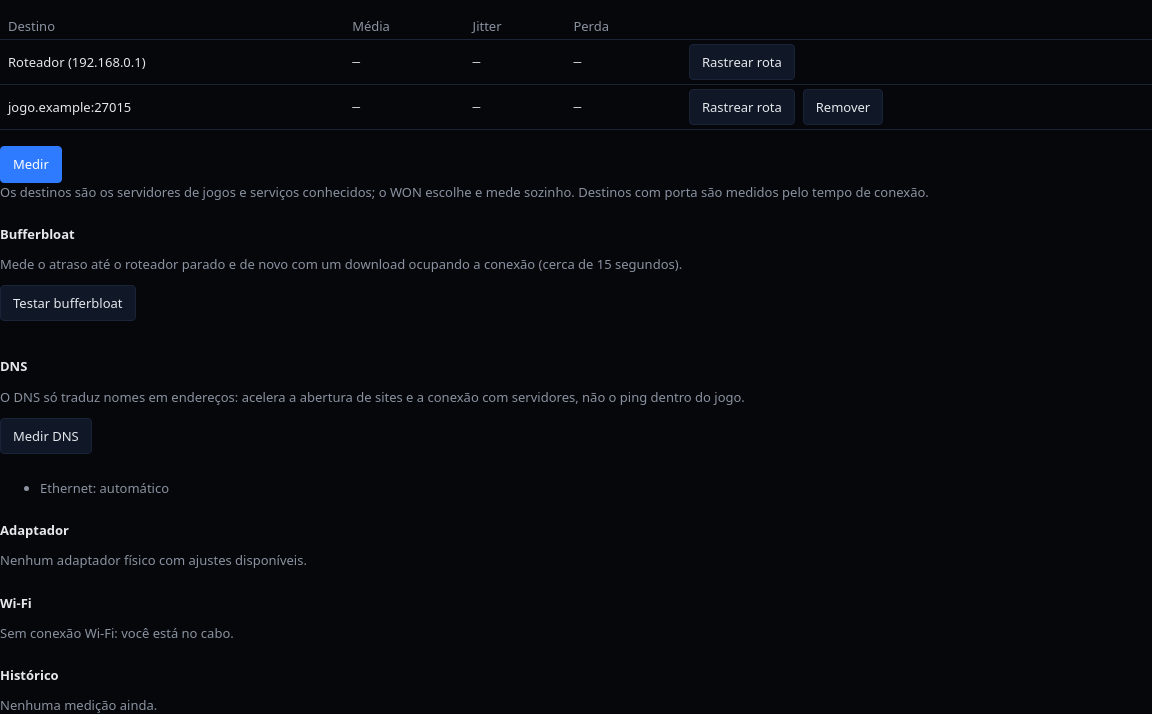
Test: Rede › dns_apply_asks_confirmation_with_preview
(page scrolled)
Expected: the text "não o ping dentro do jogo" is shown, x1=0 y1=388 x2=745 y2=406
Click the button "Medir DNS".
click(46, 436)  # box x1=0 y1=418 x2=92 y2=454
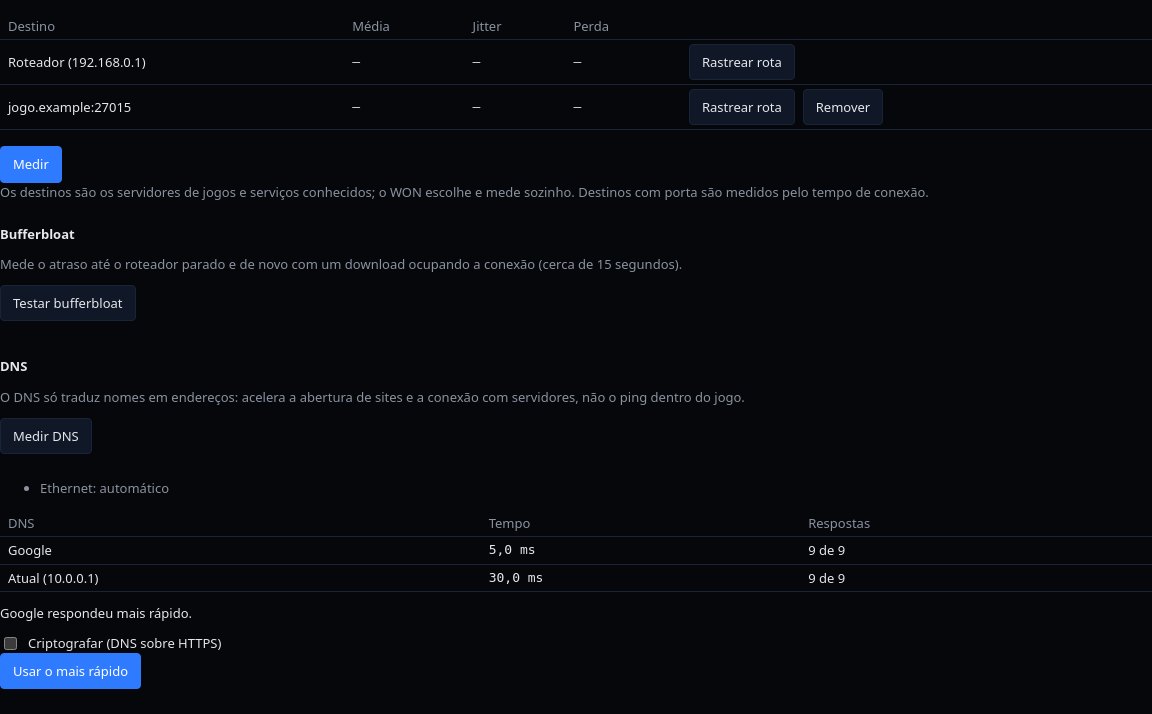
Click the button "Usar o mais rápido".
click(70, 671)  # box x1=0 y1=653 x2=141 y2=689
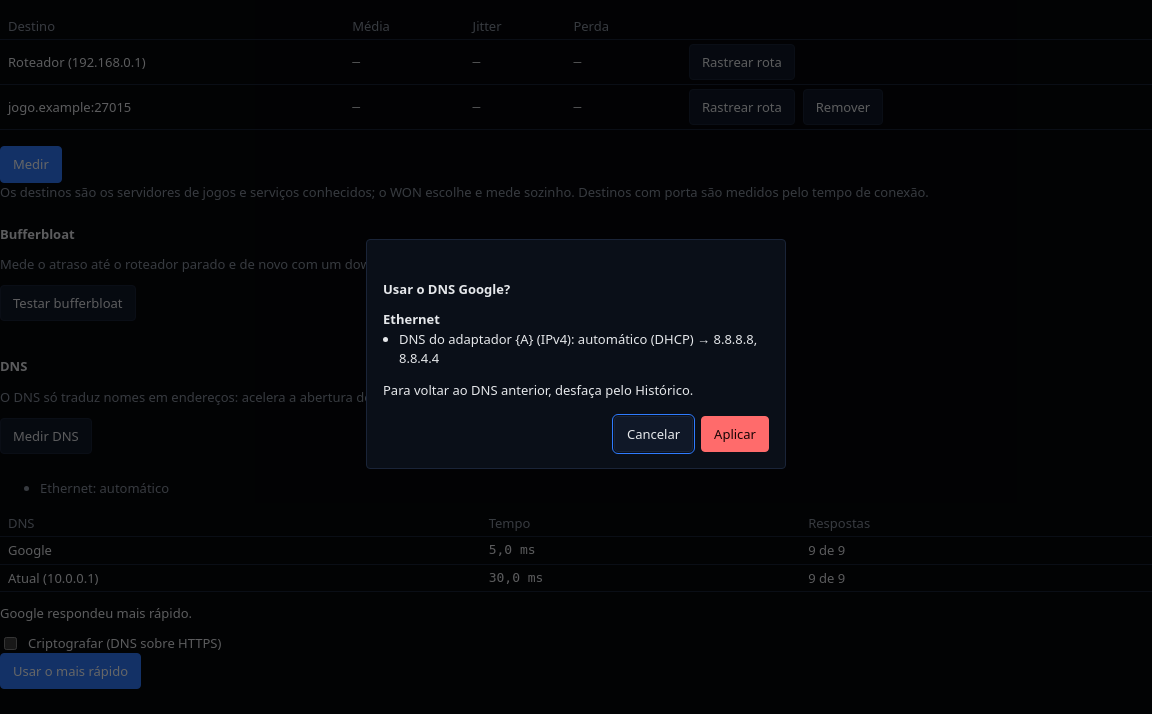
Expected: the list item "DNS do adaptador {A} (IPv4): automático (DHCP) → 8.8.8.8, 8.8.4.4" is shown, x1=399 y1=330 x2=769 y2=368
Click the button "Aplicar".
click(735, 434)  # box x1=701 y1=416 x2=769 y2=452
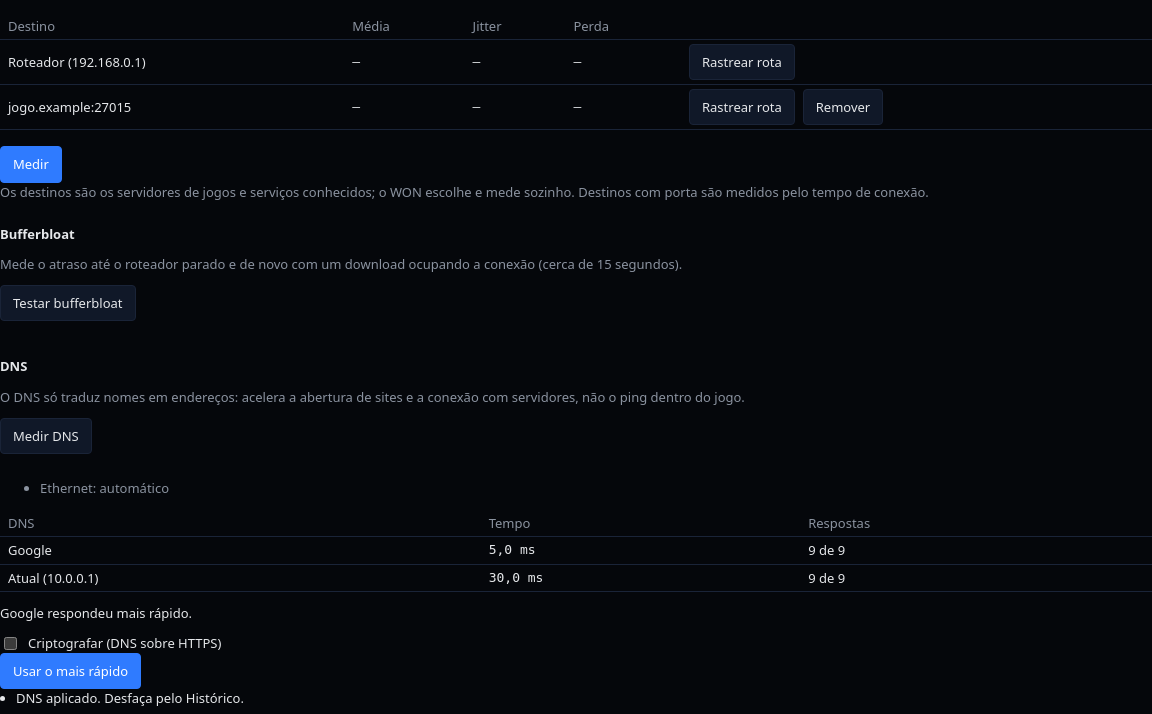
Expected: the list item "DNS aplicado. Desfaça pelo Histórico." is shown, x1=16 y1=689 x2=244 y2=707
